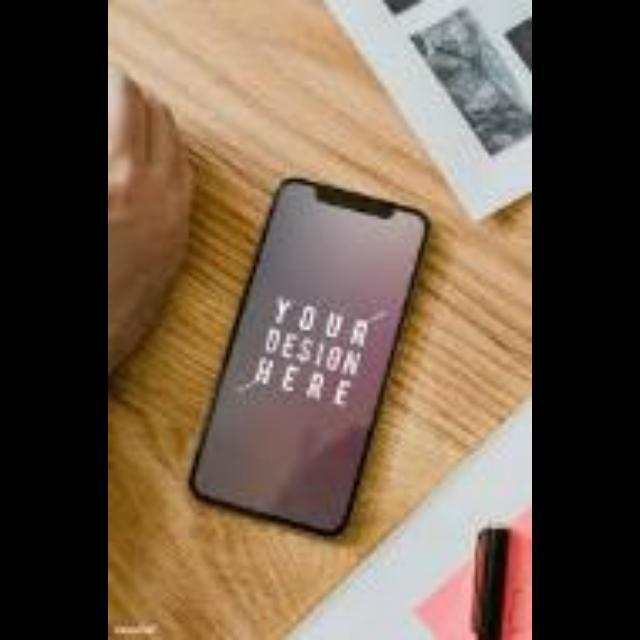phone: (168, 181, 424, 539)
